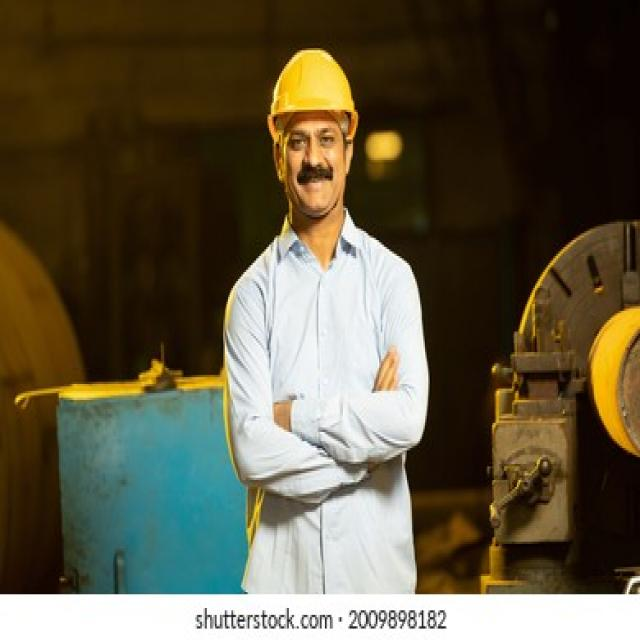Safety-Helmet: (264, 44, 361, 130)
